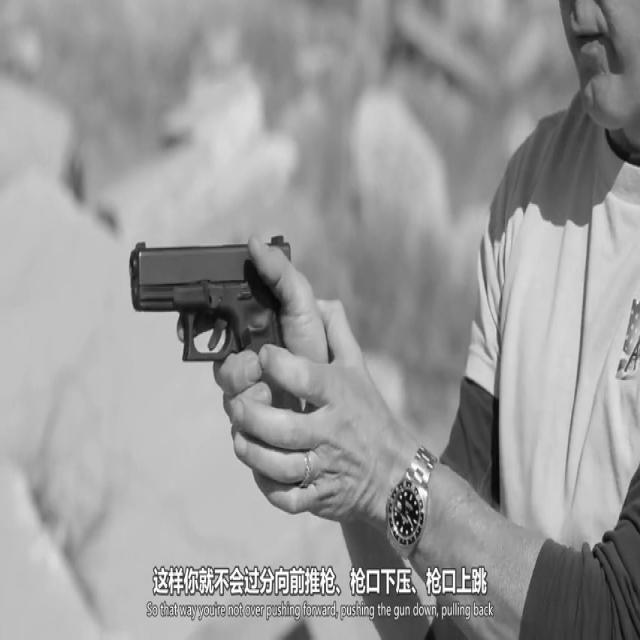Hand-Gun: (104, 168, 377, 463)
